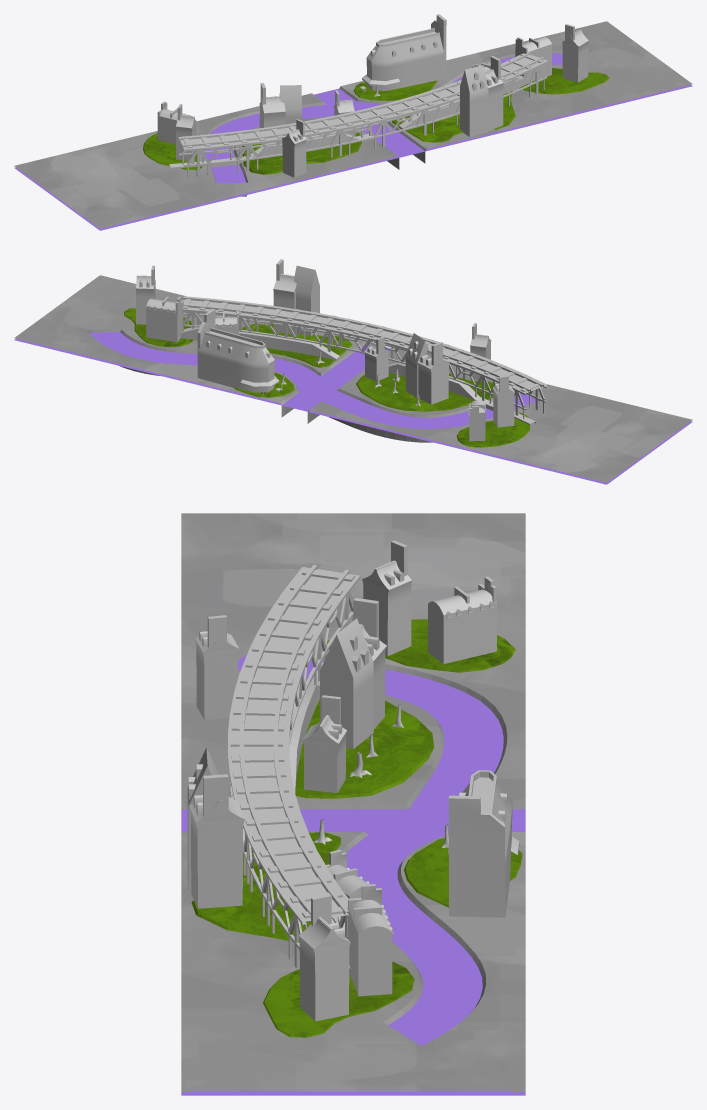
Rendered from Separator_Chunk_Railroad.FBX.
The picture shows the model from 3 angles, top to bottom: view 1: azimuth 30°, elevation 25°; view 2: azimuth 150°, elevation 25°; view 3: azimuth 270°, elevation 25°; orthographic projection. The views are drawn at different scales.
Visible parts, largest first — view 1: Object016; view 2: Object016; view 3: Object016.
Part boxes in pixels (x1,y1,x2,y2): Object016: (14, 14, 692, 230); Object016: (14, 259, 692, 484); Object016: (181, 513, 525, 1095).
Bounding box in the file's own units: 318 × 40.93 × 80.03.
